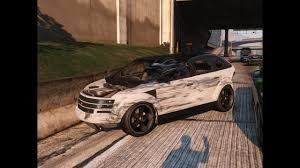Scratch: (156, 78, 217, 116)
Smashed: (74, 55, 204, 133)
